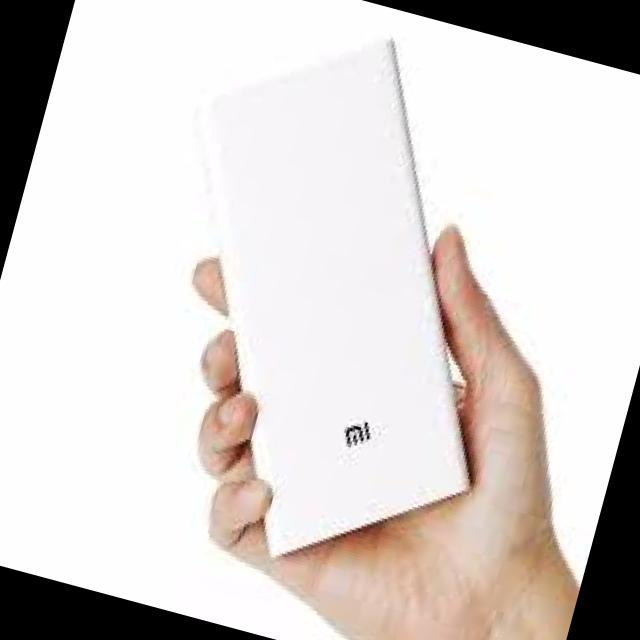power_bank: (92, 0, 579, 610)
